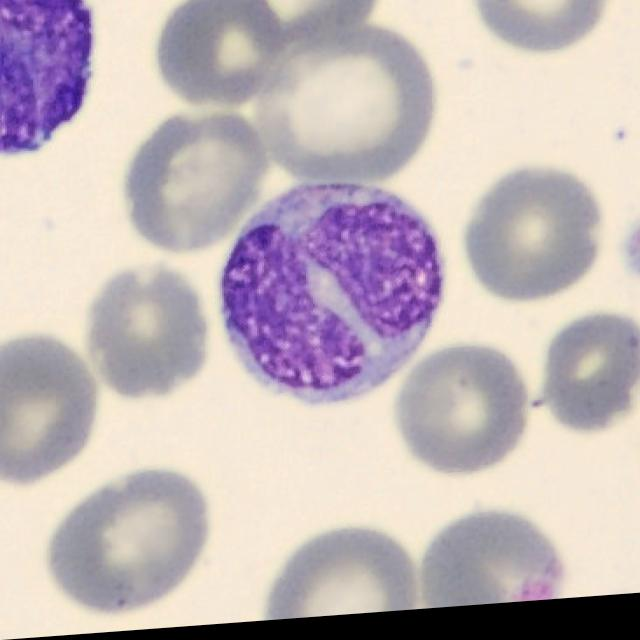Monocito: (219, 183, 444, 410)
